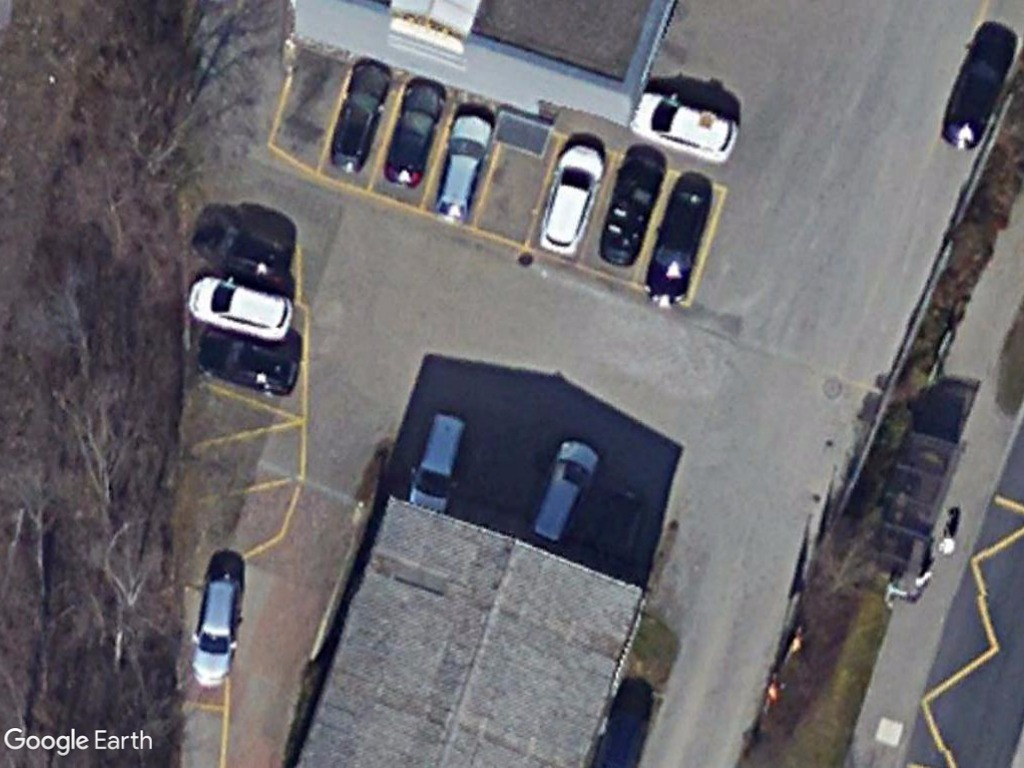car: (629, 88, 743, 163), (526, 439, 603, 546), (536, 142, 605, 259), (182, 272, 298, 341), (329, 56, 395, 174), (381, 79, 450, 188), (432, 113, 497, 224), (187, 570, 246, 685), (409, 408, 472, 513)
